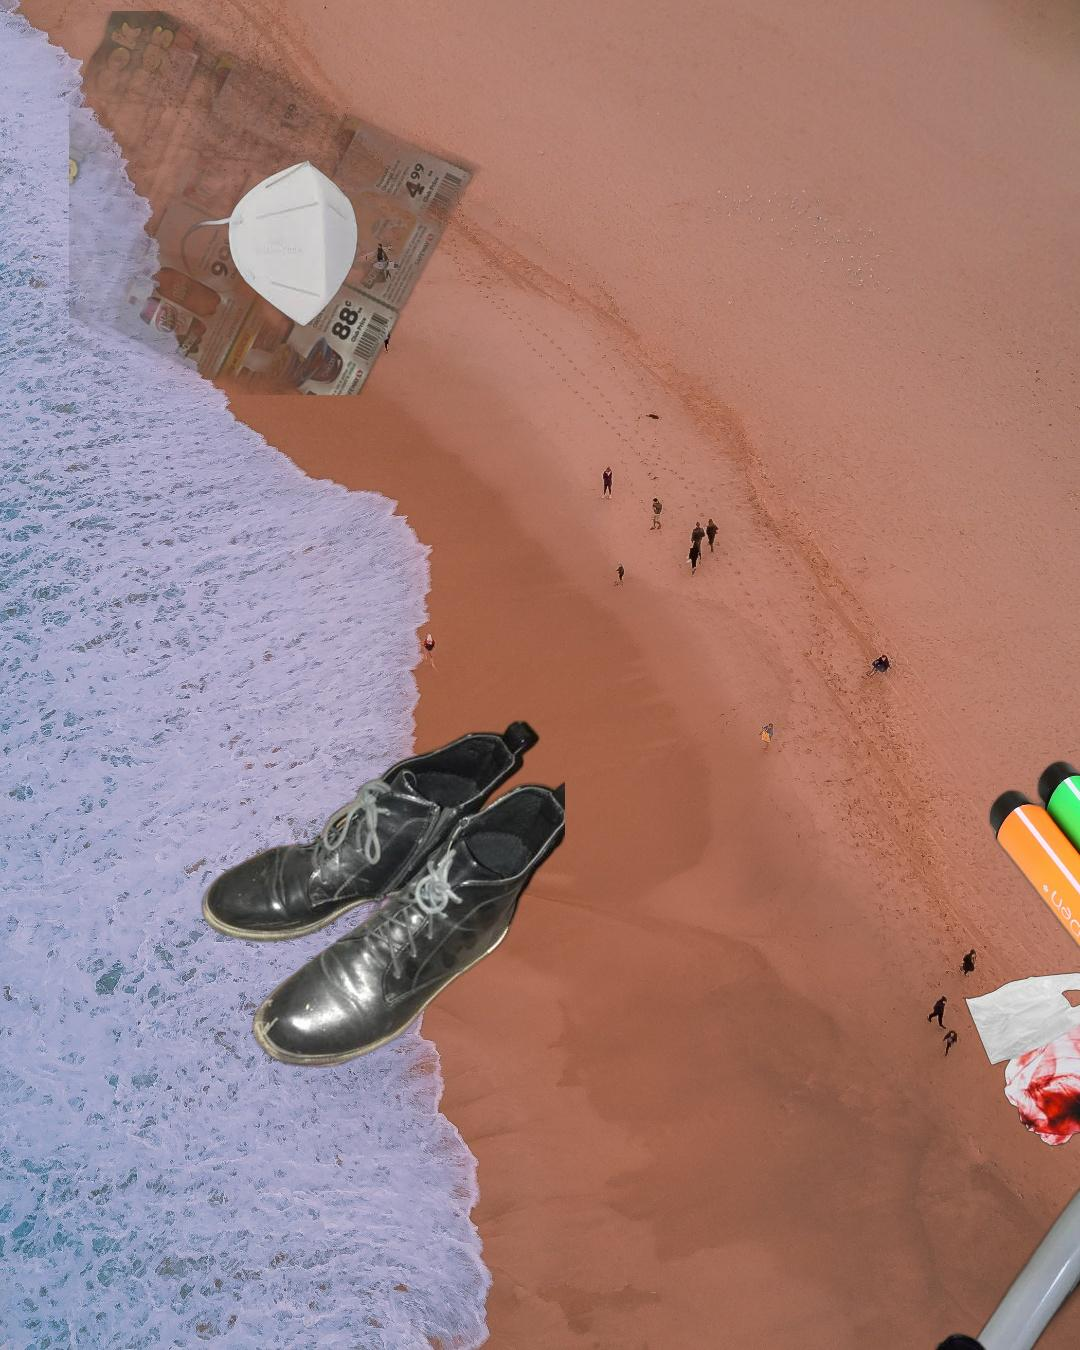biological: (879, 1331, 1080, 1350)
paper: (69, 11, 559, 395)
penholder: (774, 1142, 1080, 1350), (982, 680, 1080, 1202)
plastic-bag: (962, 970, 1080, 1149)
shoes: (199, 716, 565, 1071), (899, 1296, 1080, 1350)
trash: (176, 156, 395, 356)
